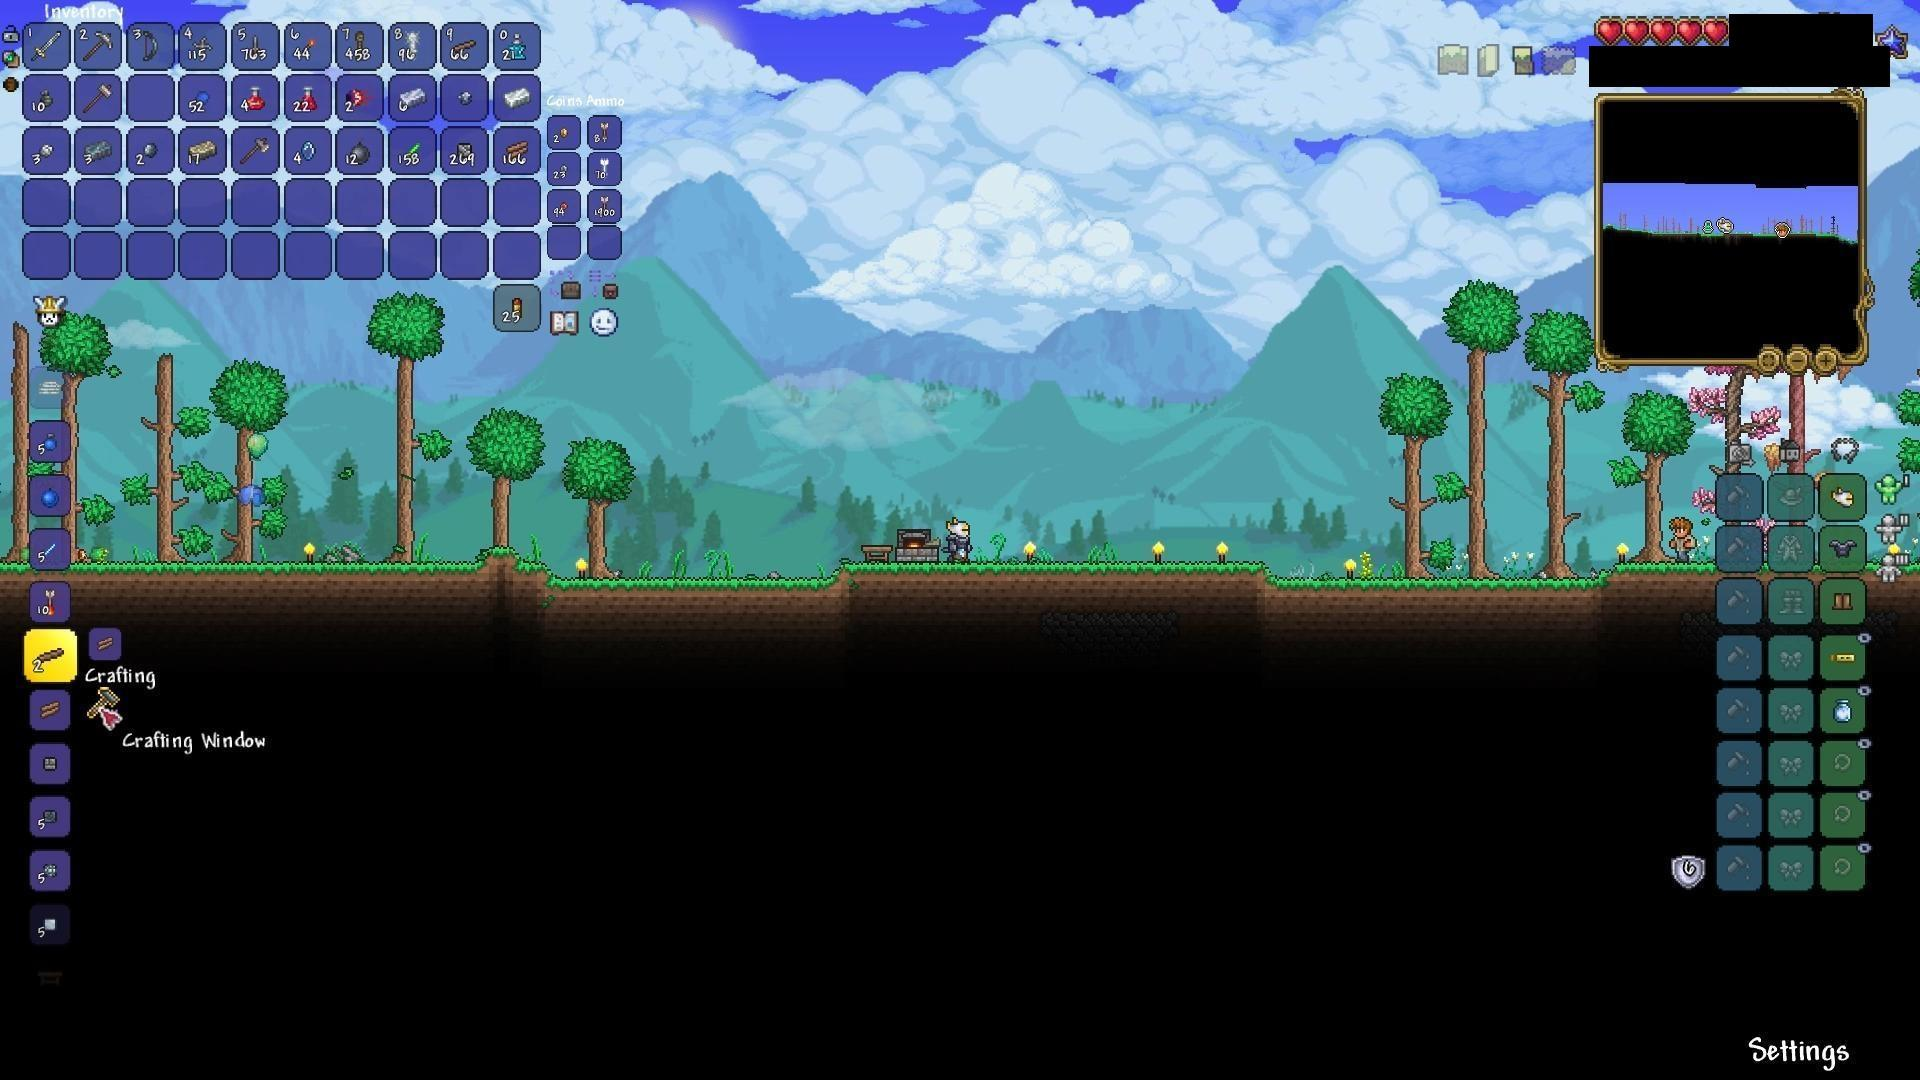dirt: (832, 554, 1274, 611), (84, 550, 484, 603), (1261, 562, 1614, 607), (538, 574, 847, 611), (1600, 551, 1713, 595), (473, 533, 553, 588)
heart: (1702, 17, 1733, 51), (1593, 16, 1626, 46), (1676, 15, 1704, 50), (1650, 16, 1676, 49), (1625, 15, 1651, 44)
tree: (372, 297, 429, 579), (1528, 322, 1585, 587), (1461, 277, 1506, 599), (1390, 368, 1447, 582), (1630, 392, 1688, 588), (219, 359, 269, 574), (152, 347, 195, 582), (568, 440, 636, 587), (477, 396, 520, 564)
